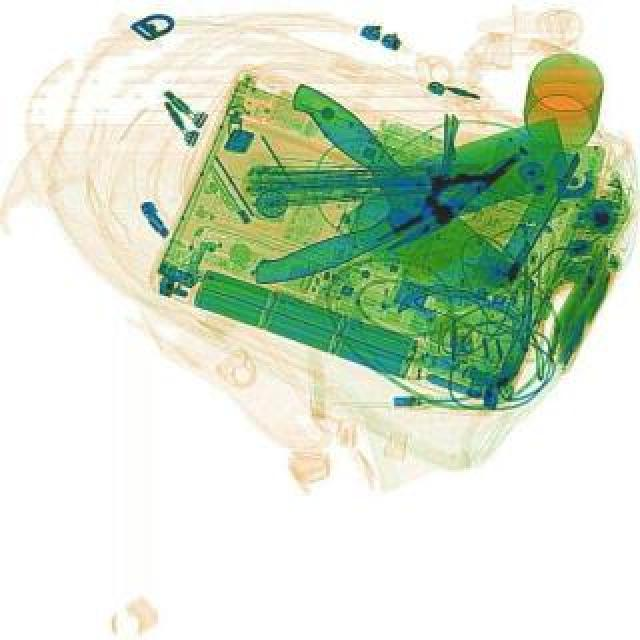knife: (248, 76, 526, 332), (236, 118, 582, 294)
